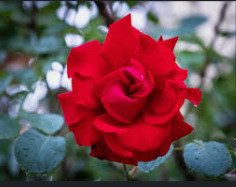RedRose: (55, 11, 203, 169)
